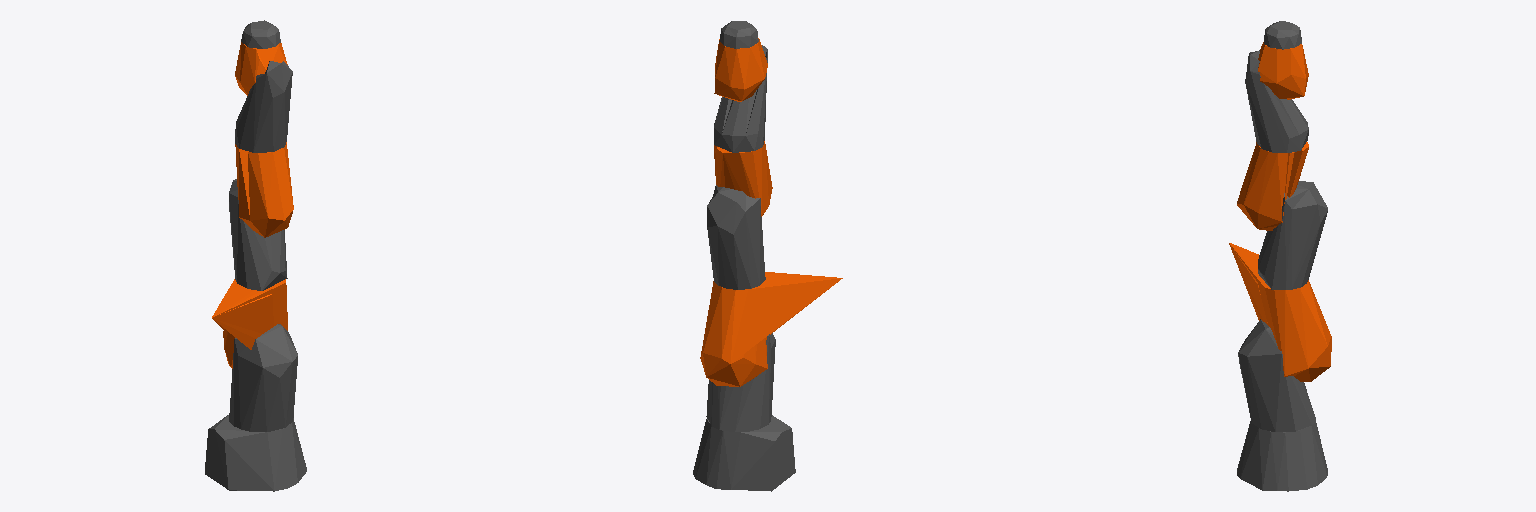
robot.urdf — dual_iiwa14:
<?xml version="1.0" ?>
<!-- =================================================================================== -->
<!-- |    This document was autogenerated by xacro from urdf/iiwa14_mesh_collision.urdf.xacro | -->
<!-- |    EDITING THIS FILE BY HAND IS NOT RECOMMENDED                                 | -->
<!-- =================================================================================== -->
<!-- ===================================================================== -->
<!-- Collision models: complex meshes can drastically affect run time.
     Therefore most collision models are omitted in this model and link 7 uses a
     polytope model.
-->
<!-- ===================================================================== -->
<robot name="dual_iiwa14" xmlns:xacro="http://www.ros.org/wiki/xacro">
  <!-- Import Rviz colors -->
  <material name="Black">
    <color rgba="0.0 0.0 0.0 1.0"/>
  </material>
  <material name="Blue">
    <color rgba="0.0 0.0 0.8 1.0"/>
  </material>
  <material name="Green">
    <color rgba="0.0 0.8 0.0 1.0"/>
  </material>
  <material name="Grey">
    <color rgba="0.4 0.4 0.4 1.0"/>
  </material>
  <material name="Orange">
    <color rgba="1.0 0.423529411765 0.0392156862745 1.0"/>
  </material>
  <material name="Brown">
    <color rgba="0.870588235294 0.811764705882 0.764705882353 1.0"/>
  </material>
  <material name="Red">
    <color rgba="0.8 0.0 0.0 1.0"/>
  </material>
  <material name="White">
    <color rgba="1.0 1.0 1.0 1.0"/>
  </material>
  <!-- Defines a base link that will serve as the model's root. This is
  necessary since URDF requires that the model be a tree.-->
  <link name="base"/>
  <!--joint between {parent} and link_0-->
  <joint name="iiwa_base_joint" type="fixed">
    <origin rpy="0 0 0" xyz="0 0 0"/>
    <parent link="base"/>
    <child link="iiwa_link_0"/>
  </joint>
  <link name="iiwa_link_0">
    <inertial>
      <origin rpy="0 0 0" xyz="-0.1 0 0.07"/>
      <mass value="5"/>
      <inertia ixx="0.05" ixy="0" ixz="0" iyy="0.06" iyz="0" izz="0.03"/>
    </inertial>
    <visual>
      <origin rpy="0 0 0" xyz="0 0 0"/>
      <geometry>
        <mesh filename="../meshes/visual/link_0.obj"/>
      </geometry>
      <material name="Grey"/>
    </visual>
    <collision>
      <origin rpy="0 0 0" xyz="-0.015 0 0.07"/>
      <geometry>
        <cylinder length="0.17" radius="0.139"/>
      </geometry>
      <material name="Grey"/>
    </collision>
    <self_collision_checking>
      <origin rpy="0 0 0" xyz="0 0 0"/>
      <geometry>
        <capsule length="0.25" radius="0.15"/>
      </geometry>
    </self_collision_checking>
  </link>
  <!-- joint between link_0 and link_1 -->
  <joint name="iiwa_joint_1" type="revolute">
    <parent link="iiwa_link_0"/>
    <child link="iiwa_link_1"/>
    <origin rpy="0 0 0" xyz="0 0 0.1575"/>
    <axis xyz="0 0 1"/>
    <limit effort="300" lower="-2.96705972839" upper="2.96705972839" velocity="10"/>
    <safety_controller k_position="100" k_velocity="2" soft_lower_limit="-2.93215314335" soft_upper_limit="2.93215314335"/>
    <dynamics damping="0.5"/>
  </joint>
  <link name="iiwa_link_1">
    <inertial>
      <origin rpy="0 0 0" xyz="0 -0.03 0.12"/>
      <mass value="5.76"/>
      <inertia ixx="0.033" ixy="0" ixz="0" iyy="0.0333" iyz="0" izz="0.0123"/>
    </inertial>
    <visual>
      <origin rpy="0 0 0" xyz="0 0 0"/>
      <geometry>
        <mesh filename="../meshes/visual/link_1.obj"/>
      </geometry>
      <material name="Grey"/>
    </visual>
    <collision>
      <origin rpy="0 0 0" xyz="0 -0.03344534434 0.1974815417"/>
      <geometry>
        <sphere radius="0.07959901601"/>
      </geometry>
      <material name="Grey"/>
    </collision>
  </link>
  <!-- joint between link_1 and link_2 -->
  <joint name="iiwa_joint_2" type="revolute">
    <parent link="iiwa_link_1"/>
    <child link="iiwa_link_2"/>
    <origin rpy="1.57079632679   0 3.14159265359" xyz="0 0 0.2025"/>
    <axis xyz="0 0 1"/>
    <limit effort="300" lower="-2.09439510239" upper="2.09439510239" velocity="10"/>
    <safety_controller k_position="100" k_velocity="2" soft_lower_limit="-2.05948851735" soft_upper_limit="2.05948851735"/>
    <dynamics damping="0.5"/>
  </joint>
  <link name="iiwa_link_2">
    <inertial>
      <origin rpy="0 0 0" xyz="0.0003 0.059 0.042"/>
      <mass value="6.35"/>
      <!-- 3.95 kuka CAD value-->
      <!--4 Original Drake URDF value-->
      <inertia ixx="0.0305" ixy="0" ixz="0" iyy="0.0304" iyz="0" izz="0.011"/>
    </inertial>
    <visual>
      <origin rpy="0 0 0" xyz="0 0 0"/>
      <geometry>
        <mesh filename="../meshes/visual/link_2.obj"/>
      </geometry>
      <material name="Orange"/>
    </visual>
   <collision>
      <origin rpy="0 0 0" xyz="-2.488800594e-017 0.203225991 -0.002065464272"/>
      <geometry>
        <sphere radius="0.06602481863"/>
      </geometry>
      <material name="Orange"/>
    </collision>
    <collision>
      <origin rpy="0 0 0" xyz="3.940519658e-019 -0.003217678485 0.05239182903"/>
      <geometry>
        <sphere radius="0.07959901601"/>
      </geometry>
      <material name="Orange"/>
    </collision>
  </link>
  <!-- joint between link_2 and link_3 -->
  <joint name="iiwa_joint_3" type="revolute">
    <parent link="iiwa_link_2"/>
    <child link="iiwa_link_3"/>
    <origin rpy="1.57079632679 0 3.14159265359" xyz="0 0.2045 0"/>
    <axis xyz="0 0 1"/>
    <limit effort="300" lower="-2.96705972839" upper="2.96705972839" velocity="10"/>
    <safety_controller k_position="100" k_velocity="2" soft_lower_limit="-2.05948851735" soft_upper_limit="2.05948851735"/>
    <dynamics damping="0.5"/>
  </joint>
  <link name="iiwa_link_3">
    <inertial>
      <origin rpy="0 0 0" xyz="0 0.03 0.13"/>
      <mass value="3.5"/>
      <!--3.18 kuka CAD value-->
      <!--3 Original Drake URDF value-->
      <inertia ixx="0.025" ixy="0" ixz="0" iyy="0.0238" iyz="0" izz="0.0076"/>
    </inertial>
    <visual>
      <origin rpy="0 0 0" xyz="0 0 0"/>
      <geometry>
        <mesh filename="../meshes/visual/link_3.obj"/>
      </geometry>
      <material name="Grey"/>
    </visual>
    <collision>
      <origin rpy="0 0 0" xyz="7.416339176e-017 0.05241123123 0.213459395"/>
      <geometry>
        <sphere radius="0.06062598796"/>
      </geometry>
      <material name="Green"/>
    </collision>
    <collision>
      <origin rpy="0 0 0" xyz="4.599245085e-017 -0.002046062069 0.03788349888"/>
      <geometry>
        <sphere radius="0.06602481863"/>
      </geometry>
      <material name="Green"/>
    </collision>
    <collision>
      <origin rpy="0 0 0" xyz="5.592688496e-017 -0.001027406431 0.2148769469"/>
      <geometry>
        <sphere radius="0.06799385346"/>
      </geometry>
      <material name="Green"/>
    </collision>
  </link>
  <!-- joint between link_3 and link_4 -->
  <joint name="iiwa_joint_4" type="revolute">
    <parent link="iiwa_link_3"/>
    <child link="iiwa_link_4"/>
    <origin rpy="1.57079632679 0 0" xyz="0 0 0.2155"/>
    <axis xyz="0 0 1"/>
    <limit effort="300" lower="-2.09439510239" upper="2.09439510239" velocity="10"/>
    <safety_controller k_position="100" k_velocity="2" soft_lower_limit="-2.05948851735" soft_upper_limit="2.05948851735"/>
    <dynamics damping="0.5"/>
  </joint>
  <link name="iiwa_link_4">
    <inertial>
      <origin rpy="0 0 0" xyz="0 0.067 0.034"/>
      <mass value="3.5"/>
      <!--2.74 kuka CAD value-->
      <!--2.7 Original Drake URDF value-->
      <inertia ixx="0.017" ixy="0" ixz="0" iyy="0.0164" iyz="0" izz="0.006"/>
    </inertial>
    <visual>
      <origin rpy="0 0 0" xyz="0 0 0"/>
      <geometry>
        <mesh filename="../meshes/visual/link_4.obj"/>
      </geometry>
      <material name="Orange"/>
    </visual>
    <collision>
      <origin rpy="0 0 0" xyz="2.212061137e-017 0.1787589211 -0.001869578351"/>
      <geometry>
        <sphere radius="0.06644602201"/>
      </geometry>
      <material name="Orange"/>
    </collision>
    <collision>
      <origin rpy="0 0 0" xyz="-6.09471084e-018 0.003913255811 0.05368034657"/>
      <geometry>
        <sphere radius="0.05993984276"/>
      </geometry>
      <material name="Orange"/>
    </collision>
  </link>
  <!-- joint between link_4 and link_5 -->
  <joint name="iiwa_joint_5" type="revolute">
    <parent link="iiwa_link_4"/>
    <child link="iiwa_link_5"/>
    <origin rpy="-1.57079632679 3.14159265359 0" xyz="0 0.1845 0"/>
    <axis xyz="0 0 1"/>
    <limit effort="300" lower="-2.96705972839" upper="2.96705972839" velocity="10"/>
    <safety_controller k_position="100" k_velocity="2" soft_lower_limit="-2.05948851735" soft_upper_limit="2.05948851735"/>
    <dynamics damping="0.5"/>
  </joint>
  <link name="iiwa_link_5">
    <inertial>
      <origin rpy="0 0 0" xyz="0.0001 0.021 0.076"/>
      <mass value="3.5"/>
      <!--1.69 kuka CAD value-->
      <!--1.7 Original Drake URDF value-->
      <inertia ixx="0.01" ixy="0" ixz="0" iyy="0.0087" iyz="0" izz="0.00449"/>
    </inertial>
    <visual>
      <origin rpy="0 0 0" xyz="0 0 0"/>
      <geometry>
        <mesh filename="../meshes/visual/link_5.obj"/>
      </geometry>
      <material name="Grey"/>
    </visual>
    <collision>
      <origin rpy="0 0 0" xyz="3.178830537e-017 0.0445161559 0.2150550559"/>
      <geometry>
        <sphere radius="0.05281876964"/>
      </geometry>
      <material name="Grey"/>
    </collision>
    <collision>
      <origin rpy="0 0 0" xyz="3.716540503e-018 9.478746123e-005 0.0302530688"/>
      <geometry>
        <sphere radius="0.06644602201"/>
      </geometry>
      <material name="Grey"/>
    </collision>
  </link>
  <!-- joint between link_5 and link_6 -->
  <joint name="iiwa_joint_6" type="revolute">
    <parent link="iiwa_link_5"/>
    <child link="iiwa_link_6"/>
    <origin rpy="1.57079632679 0 0" xyz="0 0 0.2155"/>
    <axis xyz="0 0 1"/>
    <limit effort="300" lower="-2.09439510239" upper="2.09439510239" velocity="10"/>
    <safety_controller k_position="100" k_velocity="2" soft_lower_limit="-2.05948851735" soft_upper_limit="2.05948851735"/>
    <dynamics damping="0.5"/>
  </joint>
  <link name="iiwa_link_6">
    <inertial>
      <origin rpy="0 0 0" xyz="0 0.0006 0.0004"/>
      <mass value="1.8"/>
      <!--1.8 kuka CAD value-->
      <!--1.8 Original Drake URDF value-->
      <inertia ixx="0.0049" ixy="0" ixz="0" iyy="0.0047" iyz="0" izz="0.0036"/>
    </inertial>
    <visual>
      <origin rpy="0 0 0" xyz="0 0 0"/>
      <geometry>
        <mesh filename="../meshes/visual/link_6.obj"/>
      </geometry>
      <material name="Orange"/>
    </visual>
    <collision>
      <origin rpy="0 0 0" xyz="-2.904627567e-018 -0.01623589495 0.00748218906"/>
      <geometry>
        <sphere radius="0.06341754633"/>
      </geometry>
      <material name="Orange"/>
    </collision>
  </link>
  <!-- joint between link_6 and link_7 -->
  <joint name="iiwa_joint_7" type="revolute">
    <parent link="iiwa_link_6"/>
    <child link="iiwa_link_7"/>
    <origin rpy="-1.57079632679 3.14159265359 0" xyz="0 0.081 0"/>
    <axis xyz="0 0 1"/>
    <limit effort="300" lower="-3.05432619099" upper="3.05432619099" velocity="10"/>
    <safety_controller k_position="100" k_velocity="2" soft_lower_limit="-3.01941960595" soft_upper_limit="3.01941960595"/>
    <dynamics damping="0.5"/>
  </joint>
  <link name="iiwa_link_7">
    <inertial>
      <origin rpy="0 0 0" xyz="0 0 0.02"/>
      <mass value="1.2"/>
      <!--0.31 kuka CAD value-->
      <!--0.3 Original Drake URDF value-->
      <inertia ixx="0.001" ixy="0" ixz="0" iyy="0.001" iyz="0" izz="0.001"/>
    </inertial>
    <visual>
      <origin rpy="0 0 0" xyz="0 0 0"/>
      <geometry>
        <mesh filename="../meshes/visual/link_7.obj"/>
      </geometry>
      <material name="Grey"/>
    </visual>
    <collision>
      <origin rpy="0 0 0" xyz="0 0 0"/>
      <geometry>
        <mesh filename="../meshes/collision/link_7_polytope.obj"/>
      </geometry>
      <material name="Grey"/>
    </collision>
  </link>
  <joint name="iiwa_joint_ee" type="fixed">
    <parent link="iiwa_link_7"/>
    <child link="iiwa_link_ee_kuka"/>
    <origin rpy="3.14159265359 3.14159265359 3.14159265359" xyz="0 0 0.045"/>
    <axis xyz="0 0 1"/>
  </joint>
  <link name="iiwa_link_ee_kuka">
    </link>
  <joint name="tool0_joint" type="fixed">
    <parent link="iiwa_link_7"/>
    <child link="iiwa_link_ee"/>
    <origin rpy="0 -1.57079632679 0" xyz="0 0 0.045"/>
  </joint>
  <link name="iiwa_link_ee">
    </link>
  <frame link="iiwa_link_ee" name="iiwa_frame_ee" rpy="3.14159265359 0 1.57079632679" xyz="0.09 0 0"/>
  <!-- Load Gazebo lib and set the robot namespace -->
  <gazebo>
    <plugin filename="libgazebo_ros_control.so" name="gazebo_ros_controller">
      <robotNamespace>/iiwa</robotNamespace>
    </plugin>
  </gazebo>
  <!-- Link0 -->
  <gazebo reference="iiwa_link_0">
    <material>Gazebo/Grey</material>
    <mu1>0.2</mu1>
    <mu2>0.2</mu2>
  </gazebo>
  <!-- Link1 -->
  <gazebo reference="iiwa_link_1">
    <material>Gazebo/Orange</material>
    <mu1>0.2</mu1>
    <mu2>0.2</mu2>
  </gazebo>
  <!-- Link2 -->
  <gazebo reference="iiwa_link_2">
    <material>Gazebo/Orange</material>
    <mu1>0.2</mu1>
    <mu2>0.2</mu2>
  </gazebo>
  <!-- Link3 -->
  <gazebo reference="iiwa_link_3">
    <material>Gazebo/Orange</material>
    <mu1>0.2</mu1>
    <mu2>0.2</mu2>
  </gazebo>
  <!-- Link4 -->
  <gazebo reference="iiwa_link_4">
    <material>Gazebo/Orange</material>
    <mu1>0.2</mu1>
    <mu2>0.2</mu2>
  </gazebo>
  <!-- Link5 -->
  <gazebo reference="iiwa_link_5">
    <material>Gazebo/Orange</material>
    <mu1>0.2</mu1>
    <mu2>0.2</mu2>
  </gazebo>
  <!-- Link6 -->
  <gazebo reference="iiwa_link_6">
    <material>Gazebo/Orange</material>
    <mu1>0.2</mu1>
    <mu2>0.2</mu2>
  </gazebo>
  <!-- Link7 -->
  <gazebo reference="iiwa_link_7">
    <material>Gazebo/Grey</material>
    <mu1>0.2</mu1>
    <mu2>0.2</mu2>
  </gazebo>
  <transmission name="iiwa_tran_1">
    <robotNamespace>/iiwa</robotNamespace>
    <type>transmission_interface/SimpleTransmission</type>
    <joint name="iiwa_joint_1">
      <hardwareInterface>PositionJointInterface</hardwareInterface>
    </joint>
    <actuator name="iiwa_motor_1">
      <hardwareInterface>PositionJointInterface</hardwareInterface>
      <mechanicalReduction>1</mechanicalReduction>
    </actuator>
  </transmission>
  <transmission name="iiwa_tran_2">
    <robotNamespace>/iiwa</robotNamespace>
    <type>transmission_interface/SimpleTransmission</type>
    <joint name="iiwa_joint_2">
      <hardwareInterface>PositionJointInterface</hardwareInterface>
    </joint>
    <actuator name="iiwa_motor_2">
      <hardwareInterface>PositionJointInterface</hardwareInterface>
      <mechanicalReduction>1</mechanicalReduction>
    </actuator>
  </transmission>
  <transmission name="iiwa_tran_3">
    <robotNamespace>/iiwa</robotNamespace>
    <type>transmission_interface/SimpleTransmission</type>
    <joint name="iiwa_joint_3">
      <hardwareInterface>PositionJointInterface</hardwareInterface>
    </joint>
    <actuator name="iiwa_motor_3">
      <hardwareInterface>PositionJointInterface</hardwareInterface>
      <mechanicalReduction>1</mechanicalReduction>
    </actuator>
  </transmission>
  <transmission name="iiwa_tran_4">
    <robotNamespace>/iiwa</robotNamespace>
    <type>transmission_interface/SimpleTransmission</type>
    <joint name="iiwa_joint_4">
      <hardwareInterface>PositionJointInterface</hardwareInterface>
    </joint>
    <actuator name="iiwa_motor_4">
      <hardwareInterface>PositionJointInterface</hardwareInterface>
      <mechanicalReduction>1</mechanicalReduction>
    </actuator>
  </transmission>
  <transmission name="iiwa_tran_5">
    <robotNamespace>/iiwa</robotNamespace>
    <type>transmission_interface/SimpleTransmission</type>
    <joint name="iiwa_joint_5">
      <hardwareInterface>PositionJointInterface</hardwareInterface>
    </joint>
    <actuator name="iiwa_motor_5">
      <hardwareInterface>PositionJointInterface</hardwareInterface>
      <mechanicalReduction>1</mechanicalReduction>
    </actuator>
  </transmission>
  <transmission name="iiwa_tran_6">
    <robotNamespace>/iiwa</robotNamespace>
    <type>transmission_interface/SimpleTransmission</type>
    <joint name="iiwa_joint_6">
      <hardwareInterface>PositionJointInterface</hardwareInterface>
    </joint>
    <actuator name="iiwa_motor_6">
      <hardwareInterface>PositionJointInterface</hardwareInterface>
      <mechanicalReduction>1</mechanicalReduction>
    </actuator>
  </transmission>
  <transmission name="iiwa_tran_7">
    <robotNamespace>/iiwa</robotNamespace>
    <type>transmission_interface/SimpleTransmission</type>
    <joint name="iiwa_joint_7">
      <hardwareInterface>PositionJointInterface</hardwareInterface>
    </joint>
    <actuator name="iiwa_motor_7">
      <hardwareInterface>PositionJointInterface</hardwareInterface>
      <mechanicalReduction>1</mechanicalReduction>
    </actuator>
  </transmission>
  <collision_filter_group name="arm">
    <member link="iiwa_link_0"/>
    <member link="iiwa_link_1"/>
    <member link="iiwa_link_2"/>
    <member link="iiwa_link_3"/>
    <member link="iiwa_link_4"/>
    <member link="iiwa_link_5"/>
    <member link="iiwa_link_6"/>
    <member link="iiwa_link_7"/>
    <member link="iiwa_link_ee"/>
    <ignored_collision_filter_group collision_filter_group="arm"/>
  </collision_filter_group>
</robot>

--- Facts derived from the render (not from the file) ---
Views: 3 orthographic renders of the robot side by side, from view 1: azimuth 30°, elevation 25°; view 2: azimuth 150°, elevation 25°; view 3: azimuth 270°, elevation 25°.
Robot: dual_iiwa14 — 11 links, 10 joints (7 revolute, 3 fixed); root link base; default pose: every joint at zero.
Visible links, largest first — view 1: iiwa_link_1, iiwa_link_0, iiwa_link_4, iiwa_link_5, iiwa_link_2, iiwa_link_3, iiwa_link_6, iiwa_link_7; view 2: iiwa_link_2, iiwa_link_0, iiwa_link_3, iiwa_link_1, iiwa_link_5, iiwa_link_6, iiwa_link_4, iiwa_link_7; view 3: iiwa_link_2, iiwa_link_1, iiwa_link_0, iiwa_link_3, iiwa_link_4, iiwa_link_5, iiwa_link_6, iiwa_link_7.
Link boxes in pixels (x1=…): iiwa_link_1: x1=229, y1=324, x2=297, y2=431; iiwa_link_0: x1=205, y1=415, x2=306, y2=491; iiwa_link_4: x1=235, y1=142, x2=293, y2=237; iiwa_link_5: x1=235, y1=61, x2=292, y2=152; iiwa_link_2: x1=212, y1=279, x2=287, y2=368; iiwa_link_3: x1=229, y1=179, x2=287, y2=290; iiwa_link_6: x1=235, y1=42, x2=287, y2=95; iiwa_link_7: x1=241, y1=20, x2=280, y2=48; iiwa_link_2: x1=700, y1=272, x2=842, y2=386; iiwa_link_0: x1=693, y1=415, x2=795, y2=491; iiwa_link_3: x1=707, y1=185, x2=765, y2=289; iiwa_link_1: x1=706, y1=333, x2=775, y2=431; iiwa_link_5: x1=714, y1=45, x2=767, y2=152; iiwa_link_6: x1=714, y1=38, x2=767, y2=101; iiwa_link_4: x1=714, y1=141, x2=772, y2=216; iiwa_link_7: x1=719, y1=21, x2=758, y2=48; iiwa_link_2: x1=1229, y1=243, x2=1331, y2=381; iiwa_link_1: x1=1238, y1=319, x2=1315, y2=431; iiwa_link_0: x1=1237, y1=421, x2=1327, y2=491; iiwa_link_3: x1=1258, y1=181, x2=1327, y2=289; iiwa_link_4: x1=1237, y1=142, x2=1308, y2=230; iiwa_link_5: x1=1245, y1=50, x2=1308, y2=152; iiwa_link_6: x1=1258, y1=42, x2=1308, y2=99; iiwa_link_7: x1=1264, y1=21, x2=1301, y2=49.
Bounding box of the posed robot: 0.3562 × 0.2729 × 1.31 m (x, y, z).
Meshes: 8 distinct files referenced, 8 mesh visuals loaded (8 OBJ).